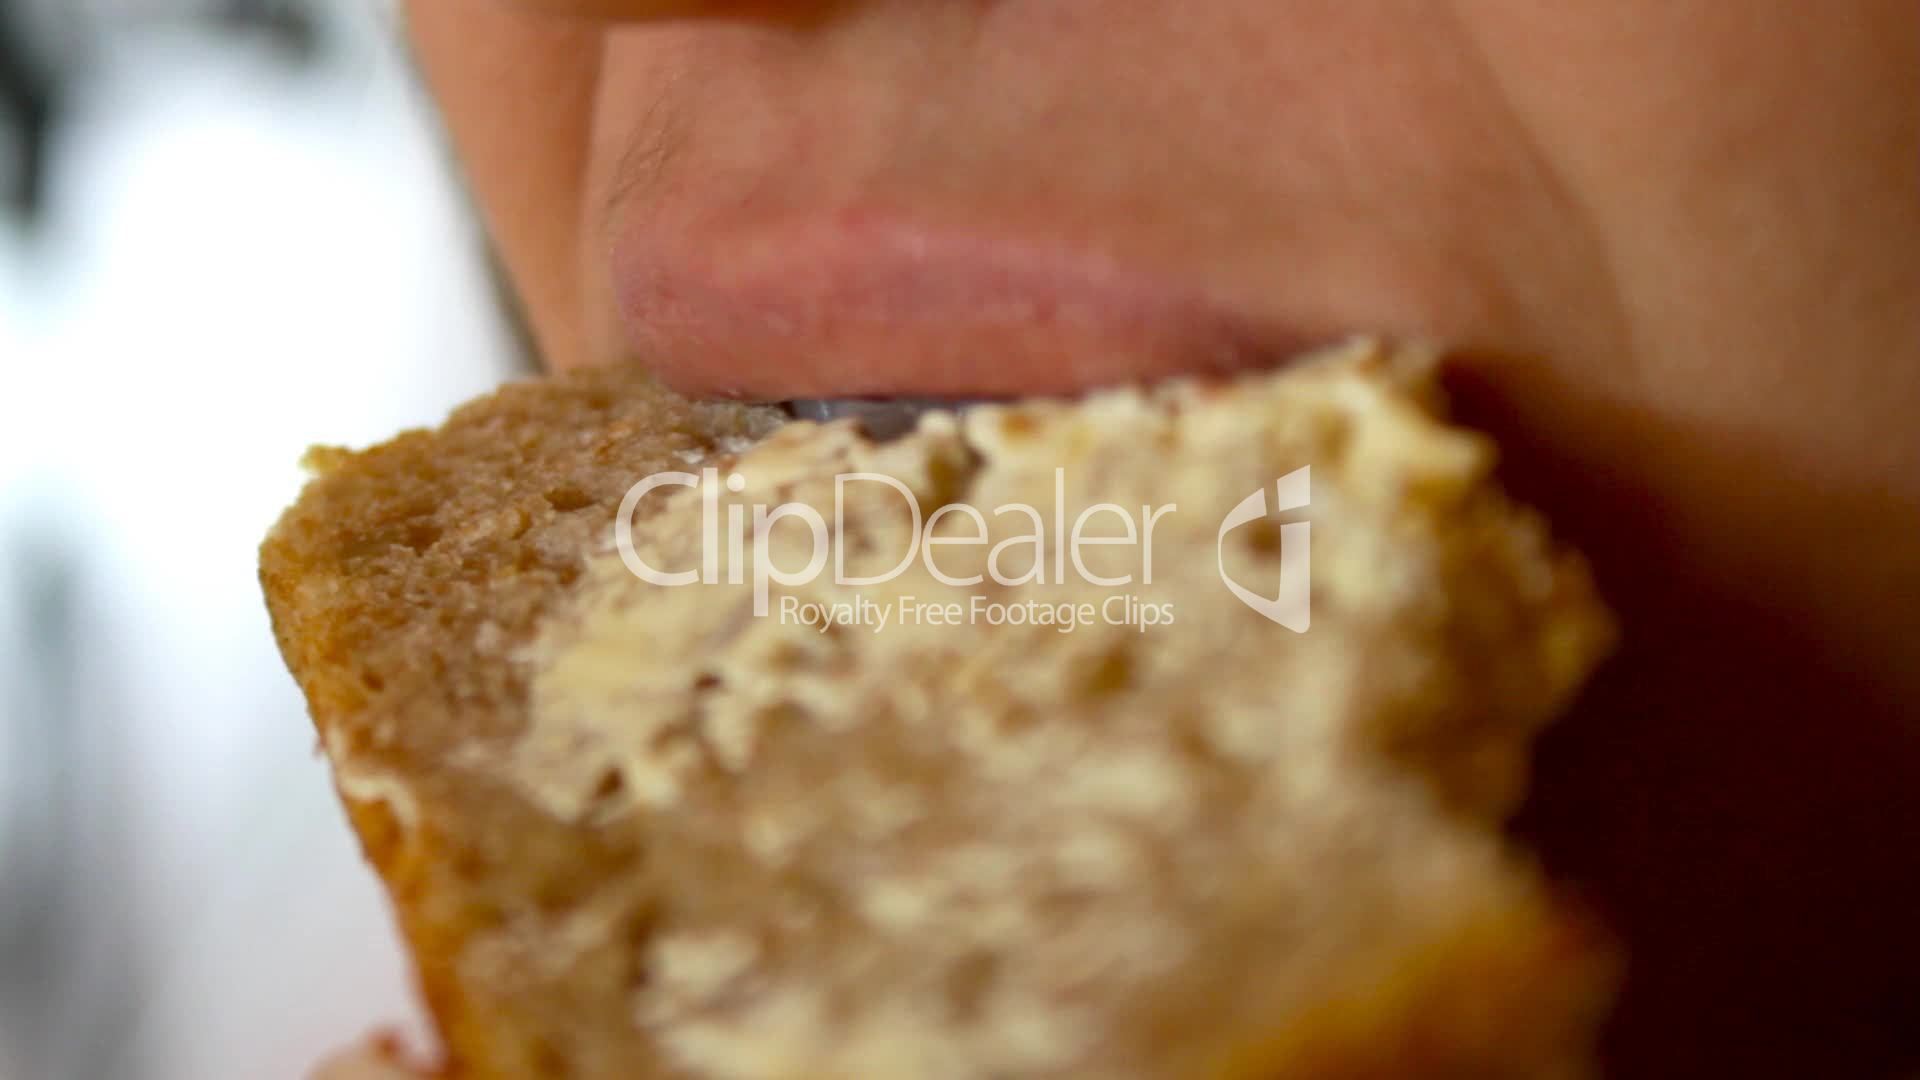slice of bread: (258, 394, 1669, 1071)
